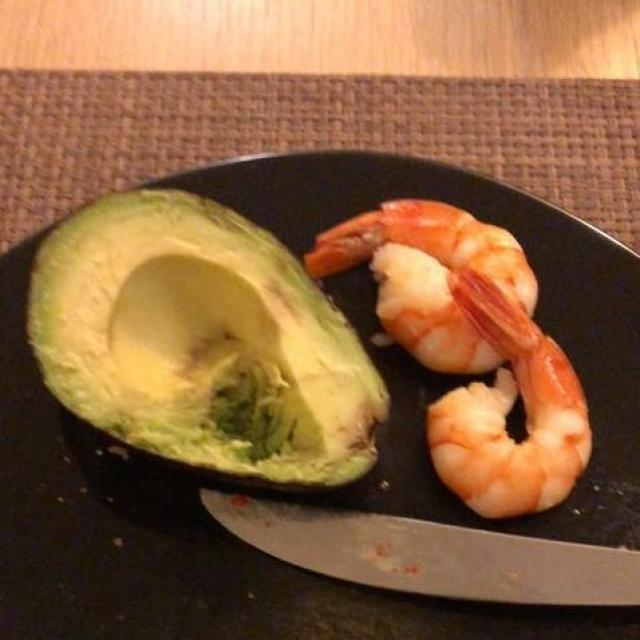avocado: (25, 193, 390, 485)
shrimp: (313, 209, 617, 514)
